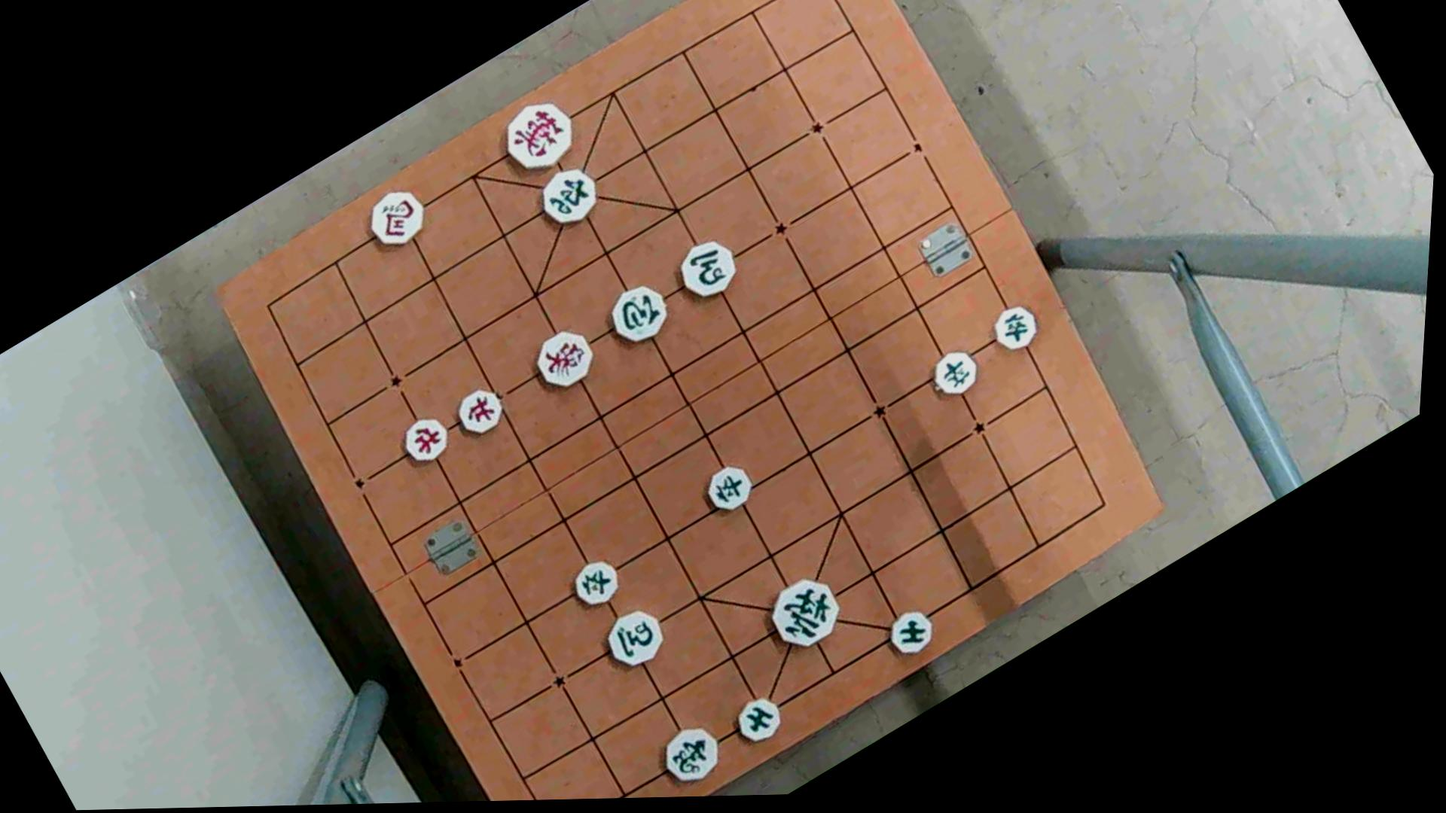cha_green: (530, 160, 607, 230)
jol_green: (923, 344, 987, 404), (697, 459, 761, 517), (566, 554, 627, 614), (982, 300, 1045, 357)
jol_red: (447, 381, 510, 441), (395, 411, 459, 469)
ma_green: (670, 233, 749, 307), (596, 604, 675, 677)
ma_red: (357, 182, 436, 256)
po_green: (598, 278, 678, 351)
sa_green: (877, 604, 941, 662), (727, 692, 789, 749)
sang_green: (651, 720, 729, 791)
sang_red: (526, 322, 606, 397)
wang_green: (758, 571, 854, 659)
wang_red: (490, 93, 584, 178)
